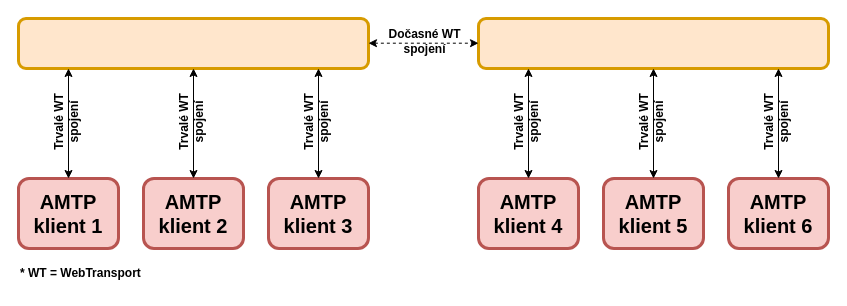
Some shapes in this 847 by 306 pixel diagram are drawn without their labels. Here are the shapes that lost their labels. From the top down, the box of each, then its label:
(16, 16, 370, 70): Vlastní AMTP server
(476, 16, 830, 70): Cizí AMTP server
